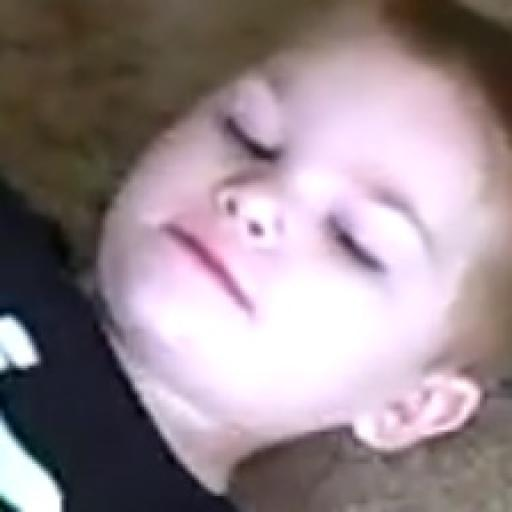Autism: (80, 0, 512, 466)
